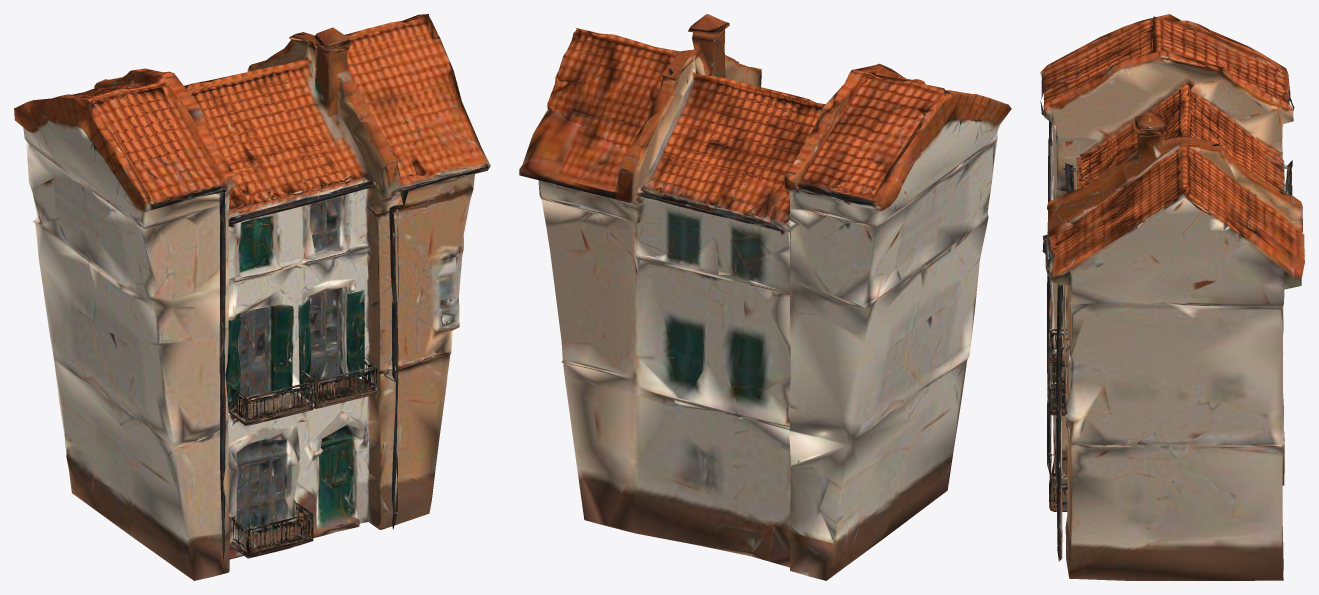
The model's file is house-cream.glb.
3 renders of one model, left to right at view 1: azimuth 30°, elevation 25°; view 2: azimuth 150°, elevation 25°; view 3: azimuth 270°, elevation 25°, orthographic. The views are drawn at different scales.
Size of the model in its own units: 1.54 by 1.9 by 1.02.
Materials: 1 (1 with a texture image).
